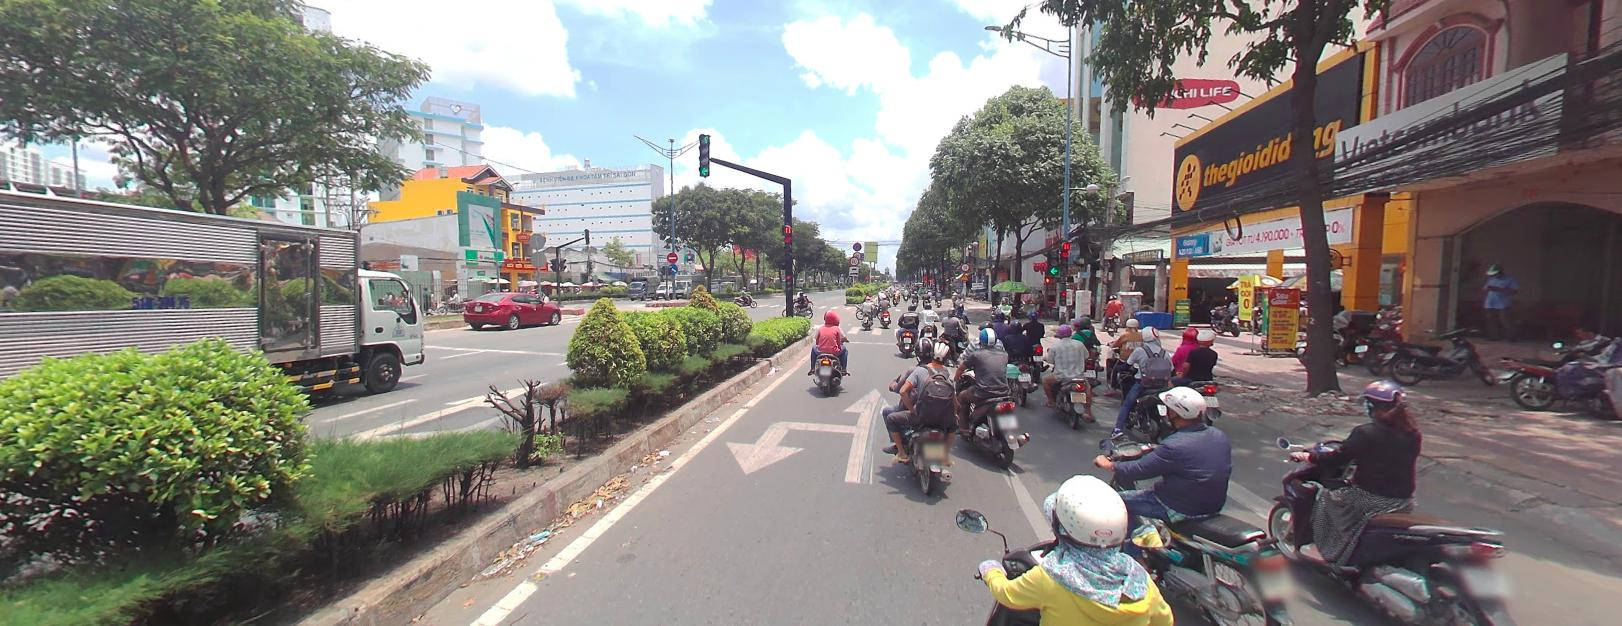Cam con lai: (853, 250, 860, 257)
Cam dung va do: (853, 240, 861, 248)
Cam nguoc chieu: (666, 251, 675, 261)
Gioi han toc do: (960, 261, 969, 271), (849, 255, 858, 263)
Hieu lenh: (666, 262, 677, 272)
Nguy hiem: (959, 272, 969, 279), (864, 273, 869, 278)
